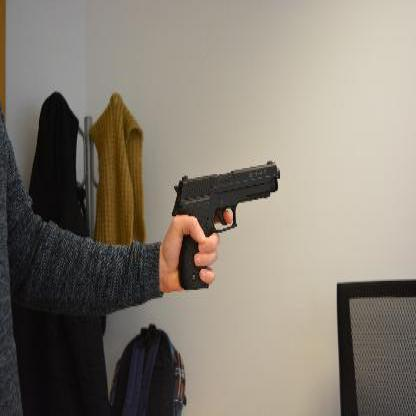pistol: (170, 158, 280, 290)
